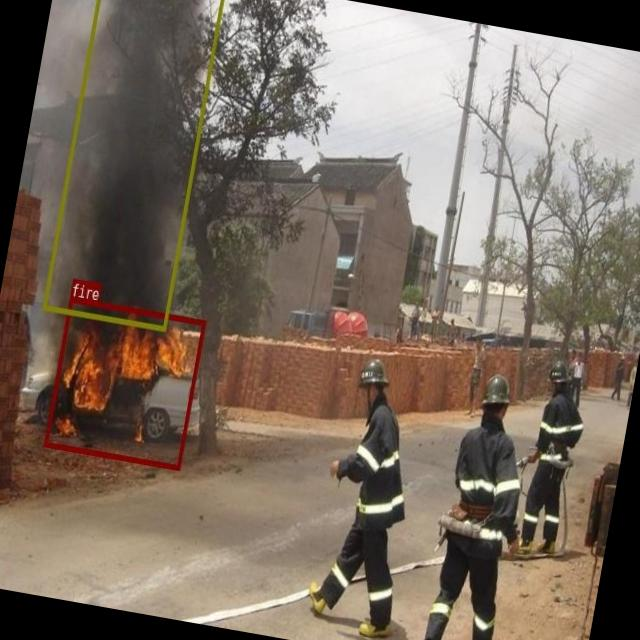fire: (44, 295, 205, 469)
smoke: (42, 0, 225, 329)
